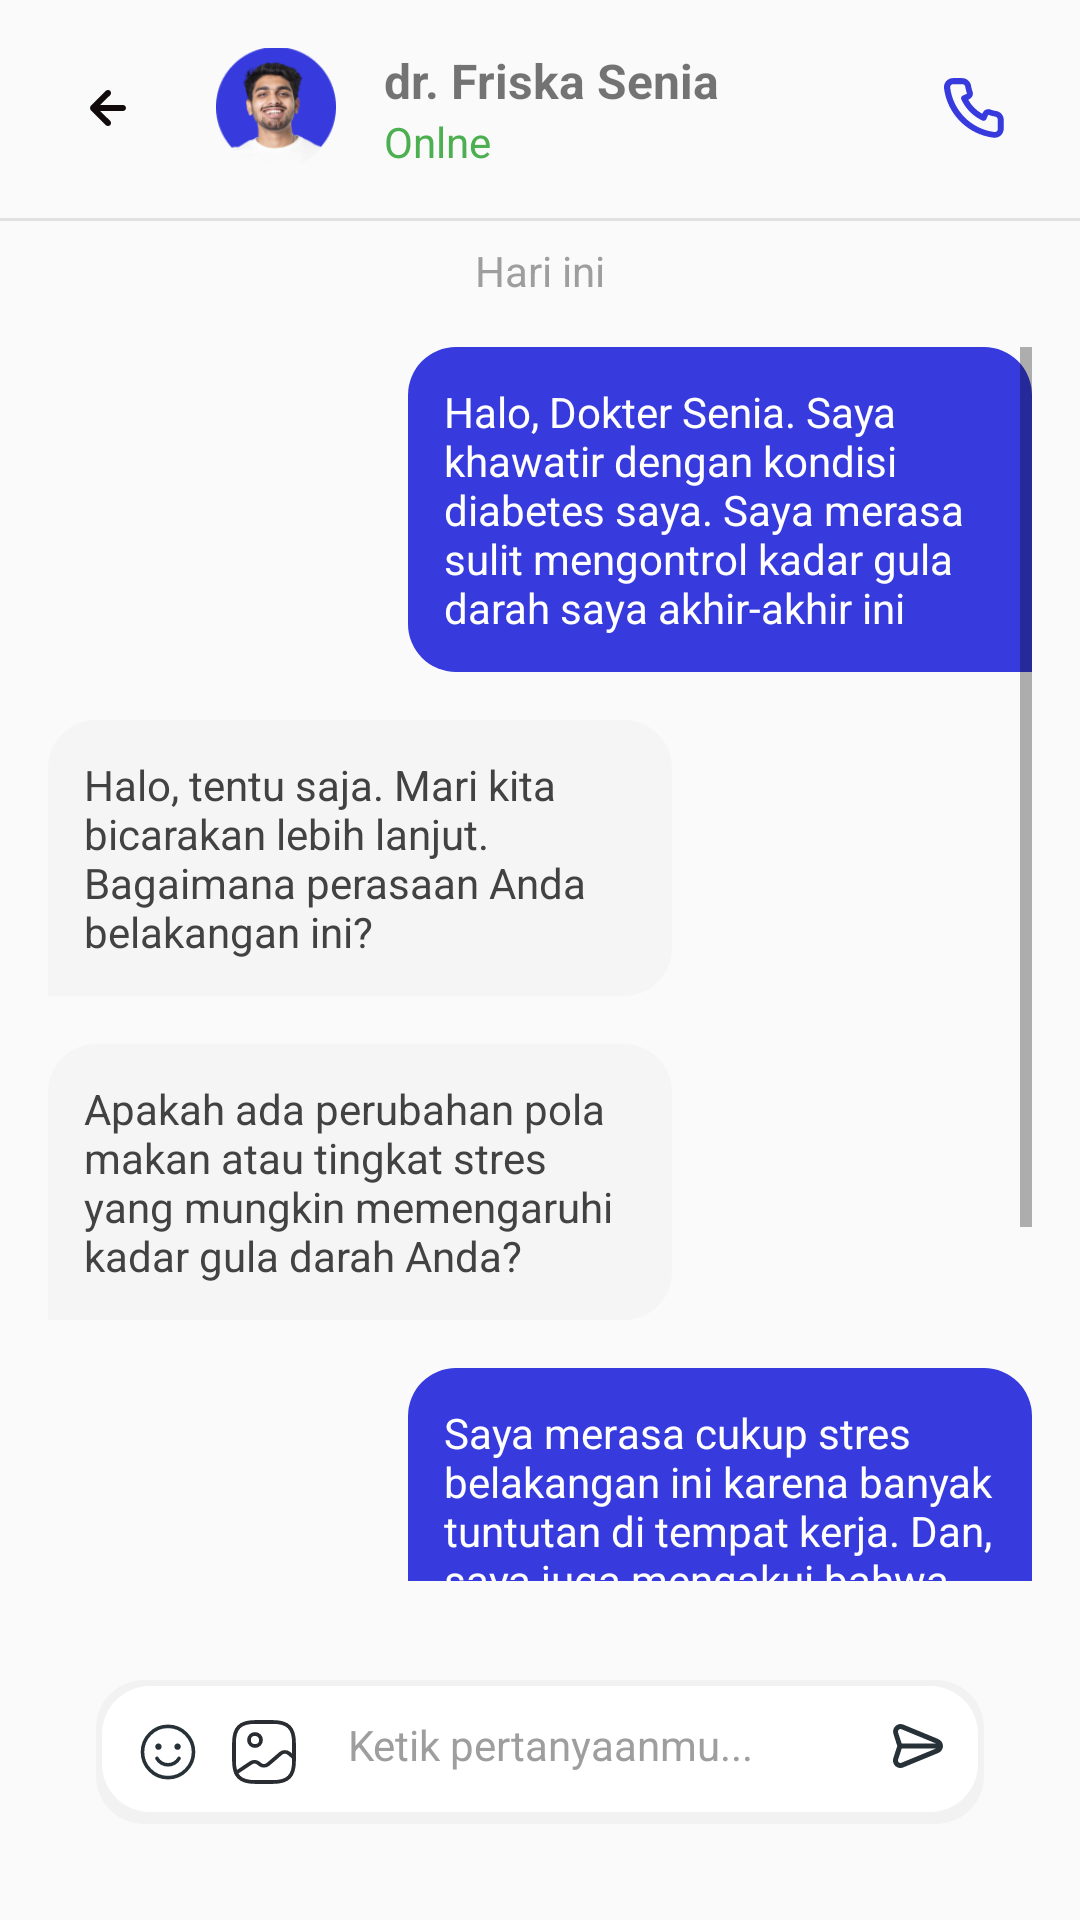

Screen size 1080px x 1920px. Icon name, then its box in pixels as (x1, y1, x2, y2):
back: (90, 90, 126, 126)
call: (944, 78, 1004, 138)
gallery: (232, 1720, 296, 1784)
send: (893, 1724, 943, 1768)
smile: (140, 1724, 196, 1780)
